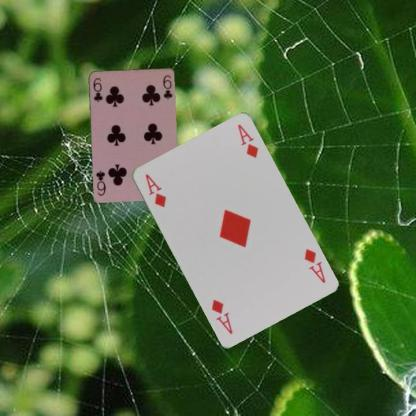6c: (90, 75, 104, 103)
Ad: (142, 171, 168, 209), (301, 246, 326, 284)
